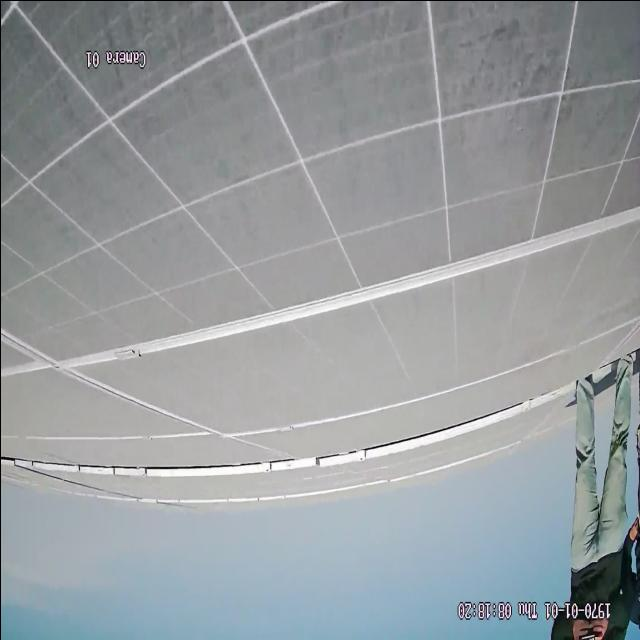interior panel: (2, 196, 640, 380)
